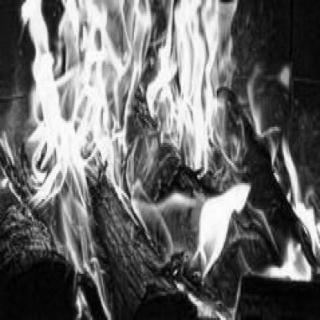Fire: (0, 0, 313, 316)
